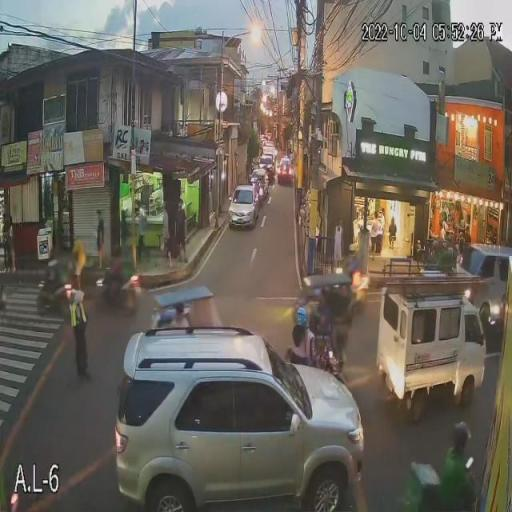helmet: (453, 422, 471, 452), (296, 307, 307, 329), (311, 313, 322, 331), (110, 244, 121, 258), (122, 242, 131, 256)
motorcycle: (395, 478, 481, 512), (95, 272, 142, 315), (318, 344, 340, 369)
rider: (442, 448, 474, 510), (291, 328, 306, 364), (110, 258, 122, 292), (307, 331, 319, 364), (121, 259, 133, 279)
